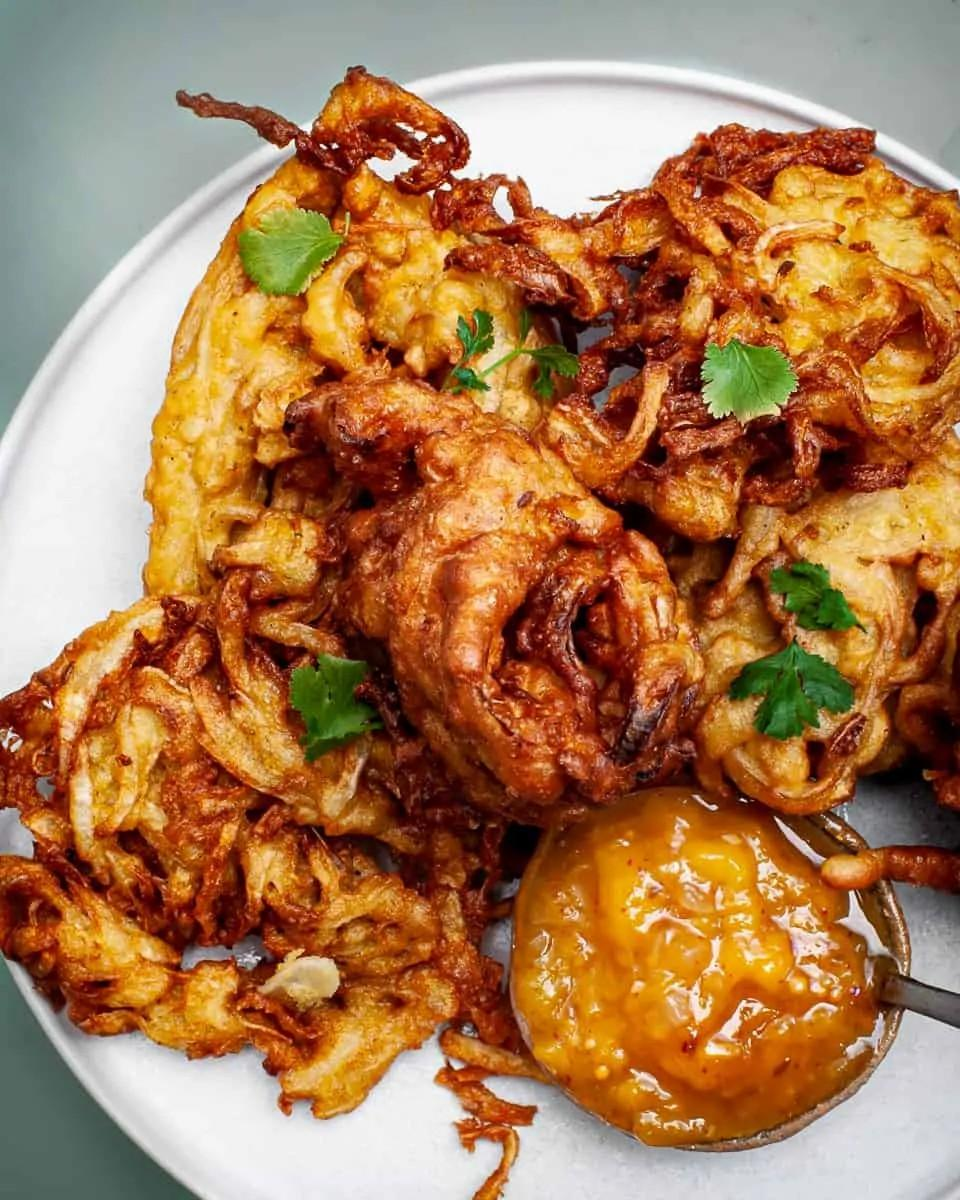OnionPakoda: (0, 61, 960, 1200)
